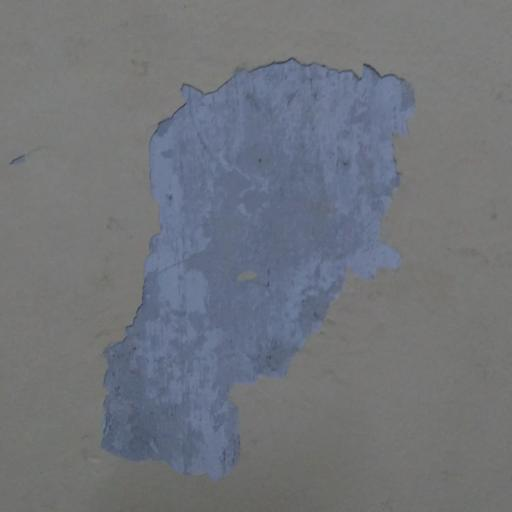peeling: (88, 25, 442, 496)
